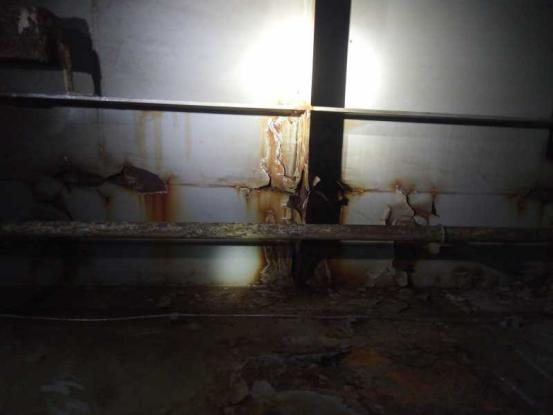corrosion: (244, 113, 310, 225), (91, 167, 179, 227), (251, 241, 346, 289), (382, 175, 448, 228)
